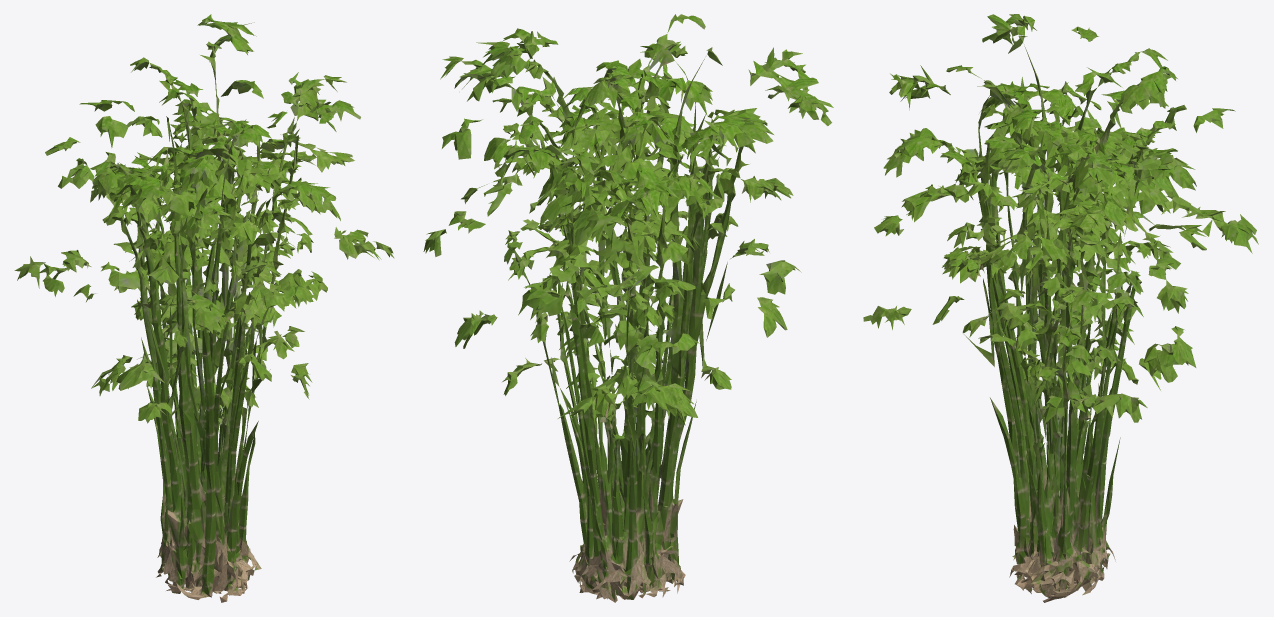
File: remeshed-bamboo.glb
3 views of the same model, side by side, from view 1: azimuth 30°, elevation 25°; view 2: azimuth 150°, elevation 25°; view 3: azimuth 270°, elevation 25° (orthographic). The views are drawn at different scales.
Parts seen in each view (by area): view 1: output_unwrapped; view 2: output_unwrapped; view 3: output_unwrapped.
Part boxes in pixels (bbox=[...]): output_unwrapped: bbox=[14, 14, 394, 602]; output_unwrapped: bbox=[423, 14, 833, 602]; output_unwrapped: bbox=[863, 14, 1258, 602].
Bounding box in the file's own units: 1.22 × 1.83 × 1.19.
Materials: 1 (1 with a texture image).
